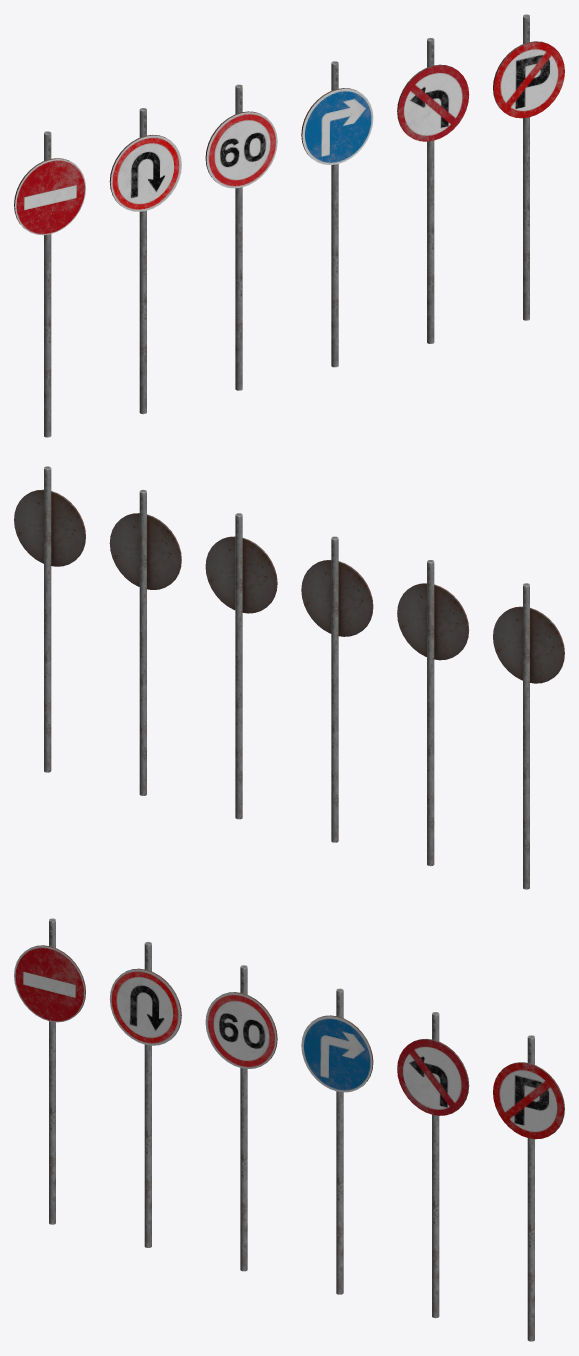
Rendered from road_sign_pack_awlokdev_2k.glb.
The picture shows the model from 3 angles, top to bottom: view 1: azimuth 30°, elevation 25°; view 2: azimuth 150°, elevation 25°; view 3: azimuth 330°, elevation 25°; orthographic projection.
Visible parts, largest first — view 1: Road_Sign_03, Road_Sign_05, Road_Sign_01, Road_Sign_04, Road_Sign_02, Road_Sign_06; view 2: Road_Sign_04, Road_Sign_06, Road_Sign_02, Road_Sign_03, Road_Sign_05, Road_Sign_01; view 3: Road_Sign_04, Road_Sign_02, Road_Sign_03, Road_Sign_06, Road_Sign_05, Road_Sign_01.
Boxes of the visible parts, <box> form: Road_Sign_03: <box>205,84,277,390</box>; Road_Sign_05: <box>397,37,469,343</box>; Road_Sign_01: <box>14,131,85,437</box>; Road_Sign_04: <box>301,61,373,367</box>; Road_Sign_02: <box>109,108,181,414</box>; Road_Sign_06: <box>493,14,564,320</box>; Road_Sign_04: <box>205,513,277,819</box>; Road_Sign_06: <box>14,466,85,772</box>; Road_Sign_02: <box>397,560,469,866</box>; Road_Sign_03: <box>301,536,373,842</box>; Road_Sign_05: <box>109,489,181,795</box>; Road_Sign_01: <box>493,583,564,889</box>; Road_Sign_04: <box>301,988,373,1294</box>; Road_Sign_02: <box>109,941,181,1247</box>; Road_Sign_03: <box>205,965,277,1271</box>; Road_Sign_06: <box>493,1035,564,1341</box>; Road_Sign_05: <box>397,1012,469,1318</box>; Road_Sign_01: <box>14,918,85,1224</box>.
Bounding box in the file's own units: 5.74 × 3.02 × 0.0863.
Materials: 1 (1 with a texture image).
